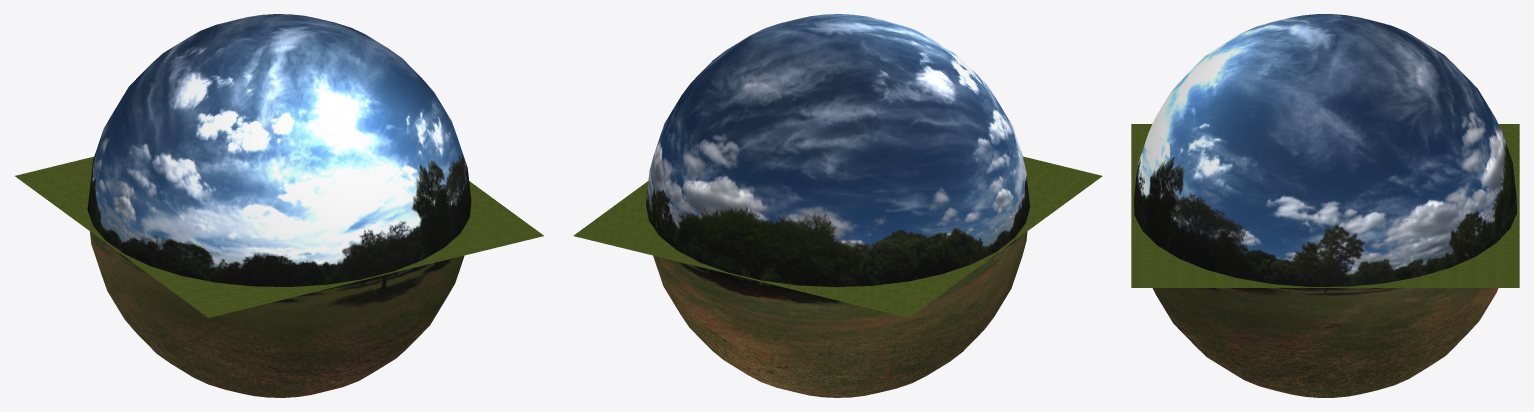
File: world.glb
3 views of the same model, side by side, from view 1: azimuth 30°, elevation 25°; view 2: azimuth 150°, elevation 25°; view 3: azimuth 270°, elevation 25° (orthographic).
Parts seen in each view (by area): view 1: skybox, ground; view 2: skybox, ground; view 3: skybox, ground.
Boxes of the visible parts, x1,y1,x2,y2 form: skybox: [87, 14, 471, 397]; ground: [15, 156, 543, 317]; skybox: [646, 14, 1029, 397]; ground: [573, 156, 1102, 317]; skybox: [1134, 14, 1516, 397]; ground: [1131, 124, 1519, 287].
Size of the model in its own units: 46.79 by 46.36 by 46.79.
Materials: 4 (3 with a texture image).
